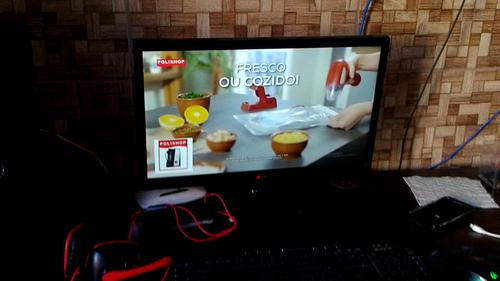Polishop #1: (154, 138, 193, 175)
